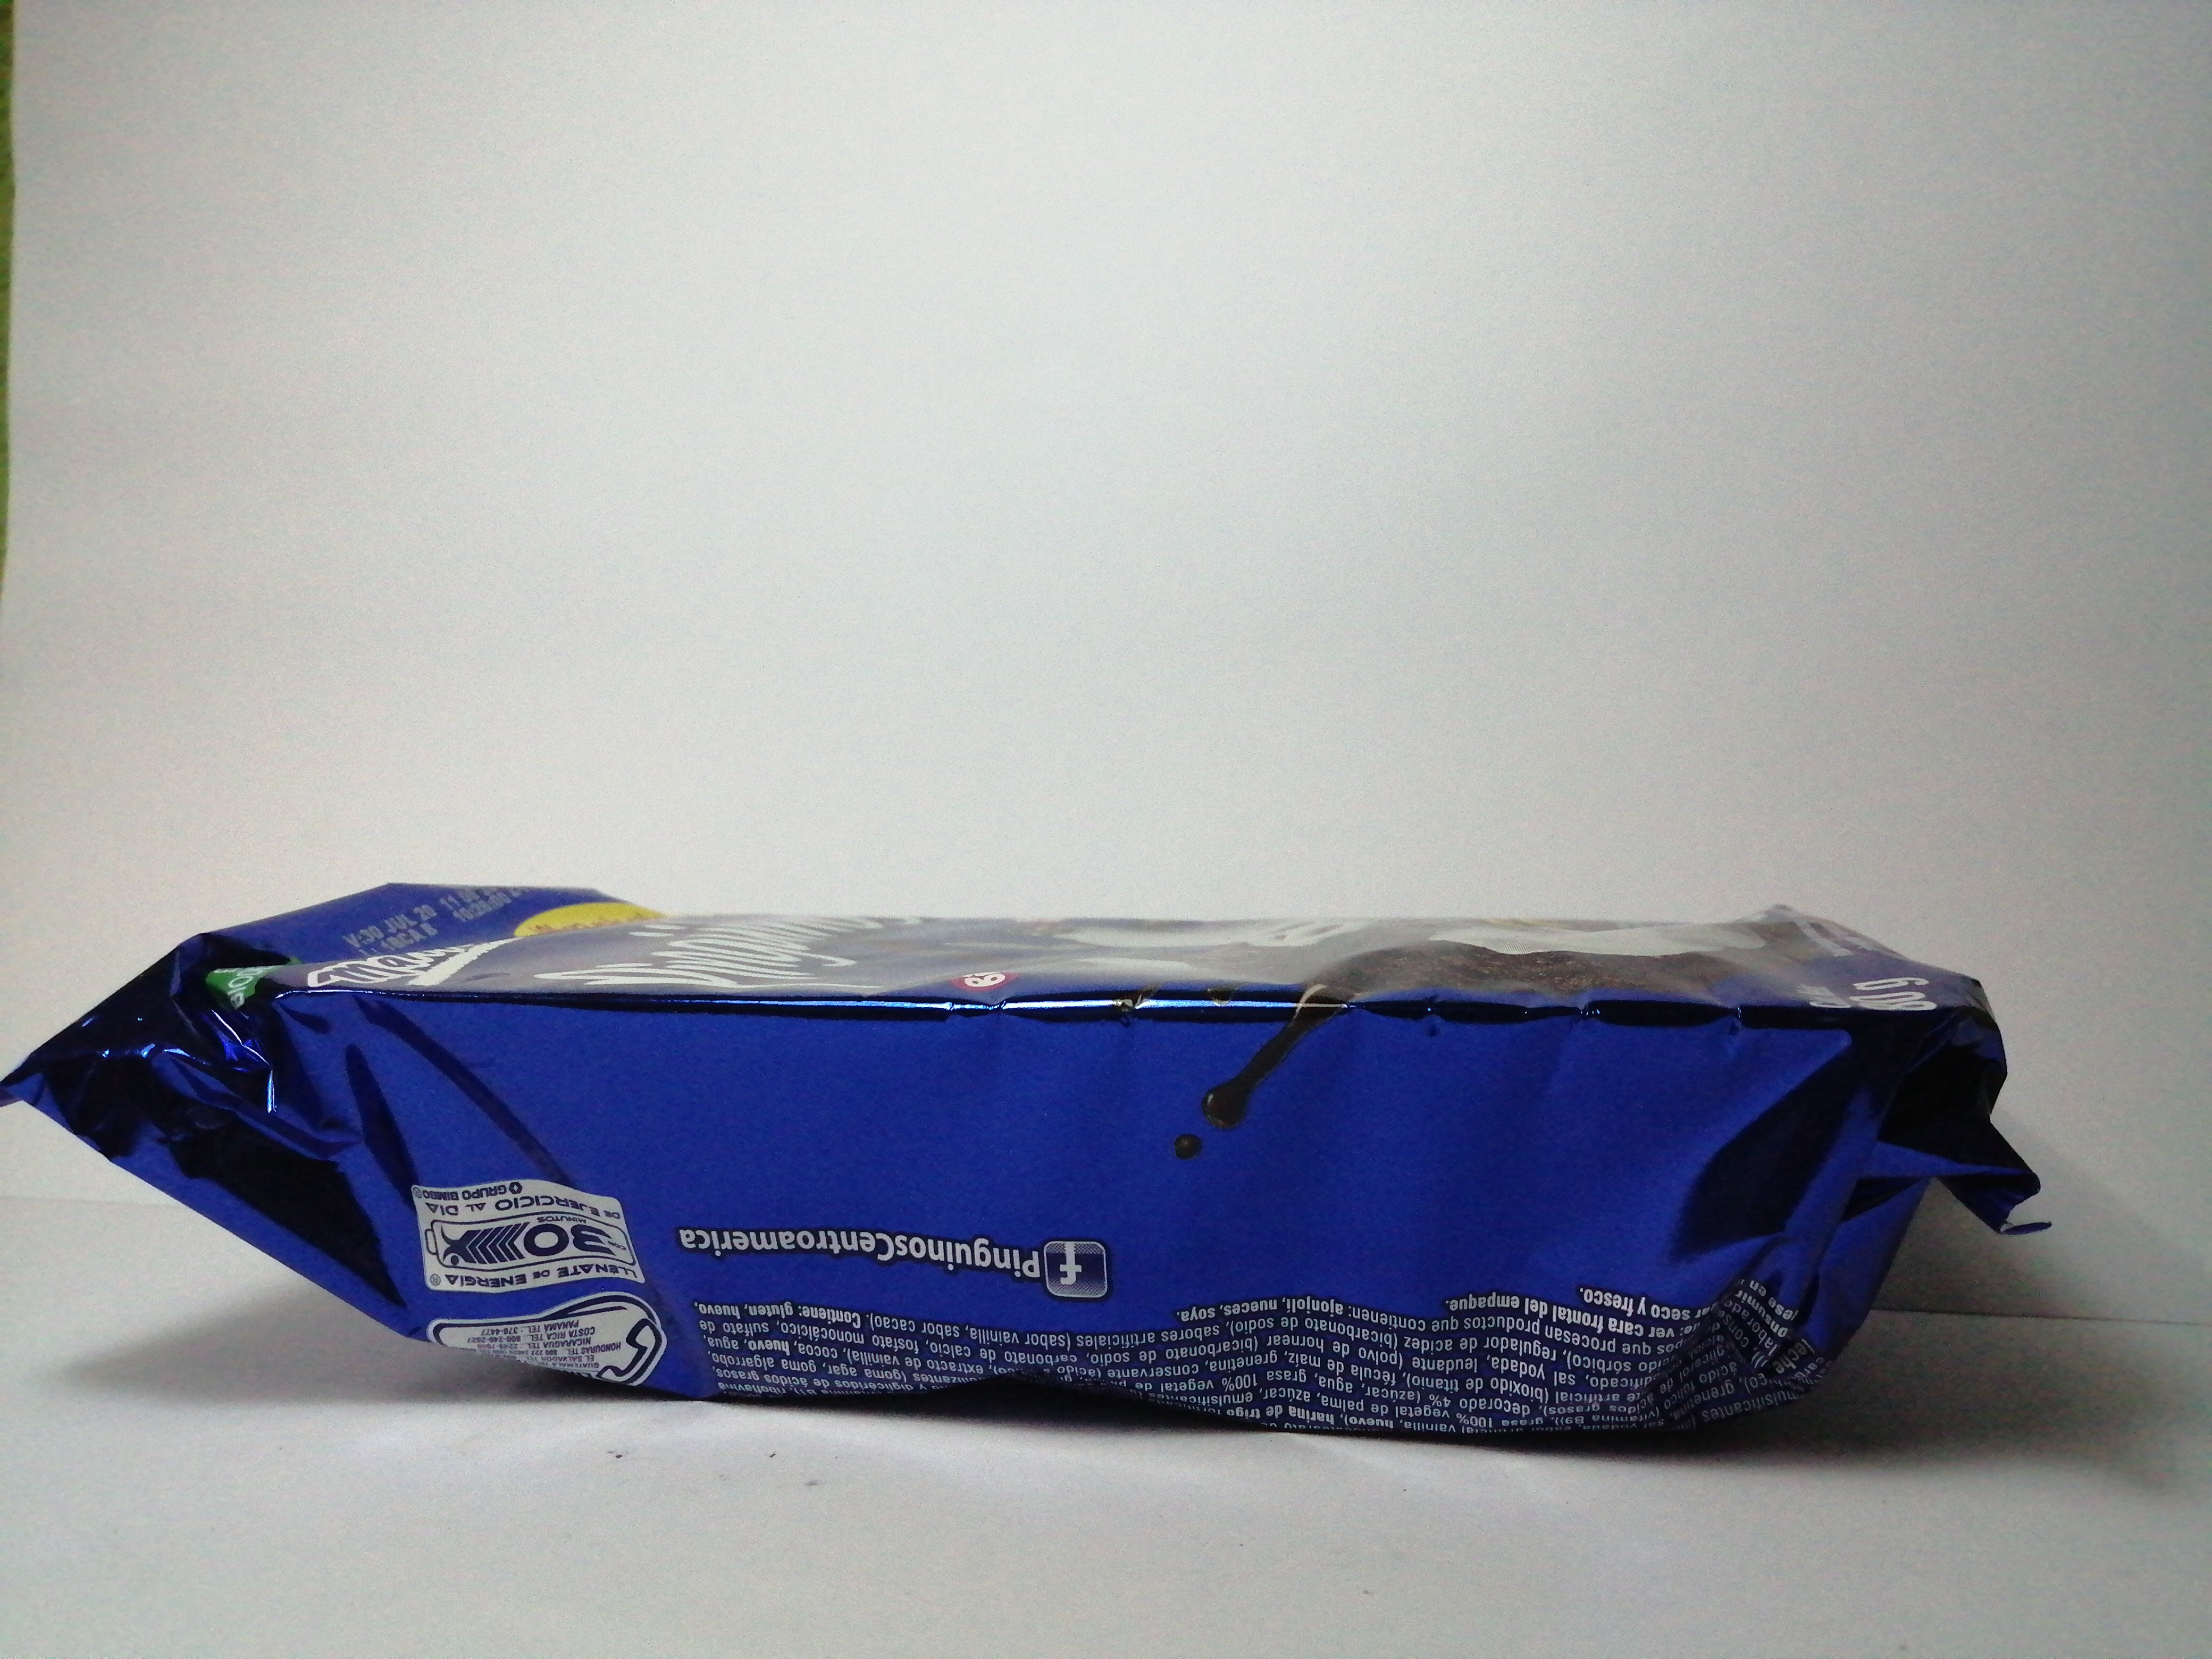pinguino: (16, 889, 2036, 1448)
